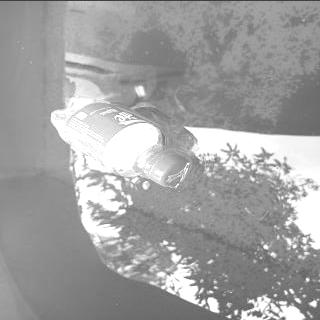bottle: (46, 94, 192, 188)
